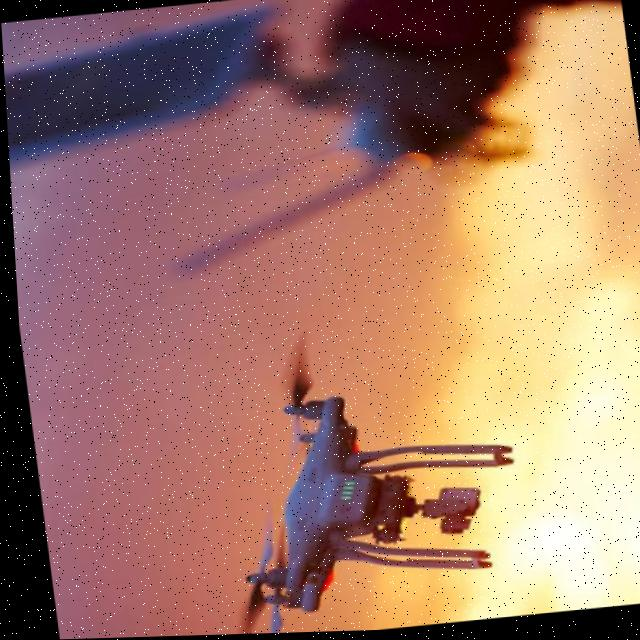drones: (177, 321, 543, 636)
